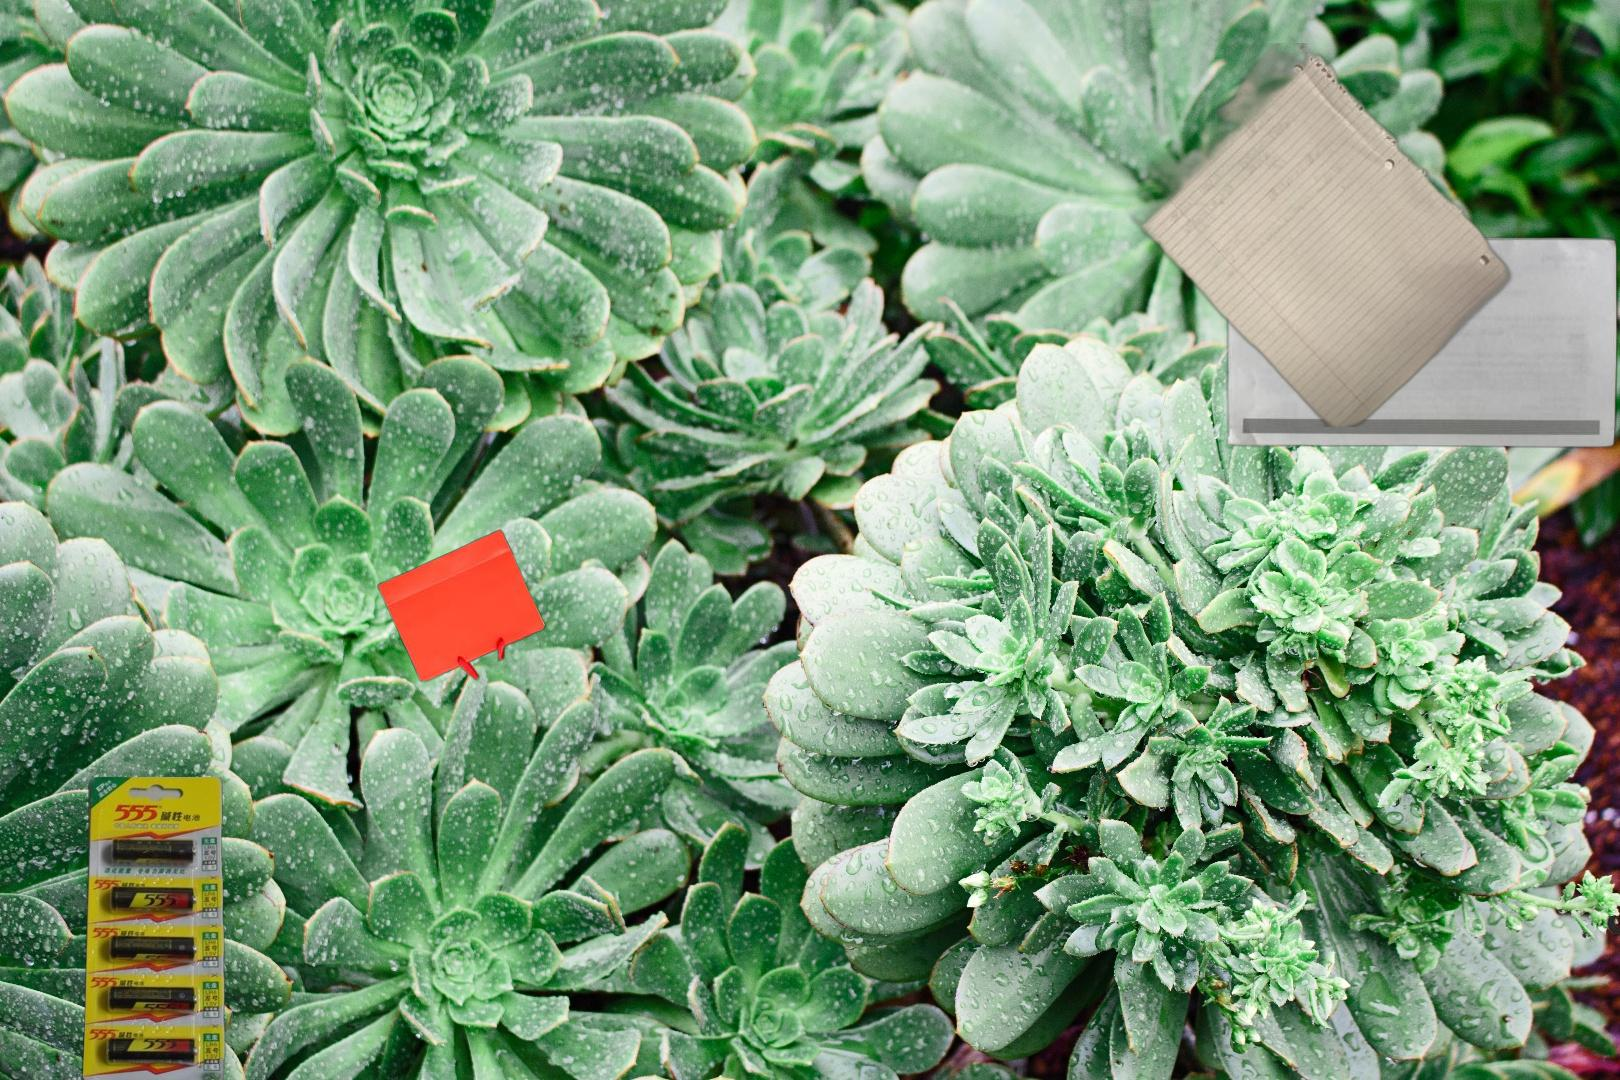battery: (80, 777, 227, 1080)
paper: (1049, 43, 1516, 427), (1221, 234, 1620, 450)
paper-bag: (375, 528, 547, 685)
trashbox-cardboard: (1602, 916, 1620, 1080)
